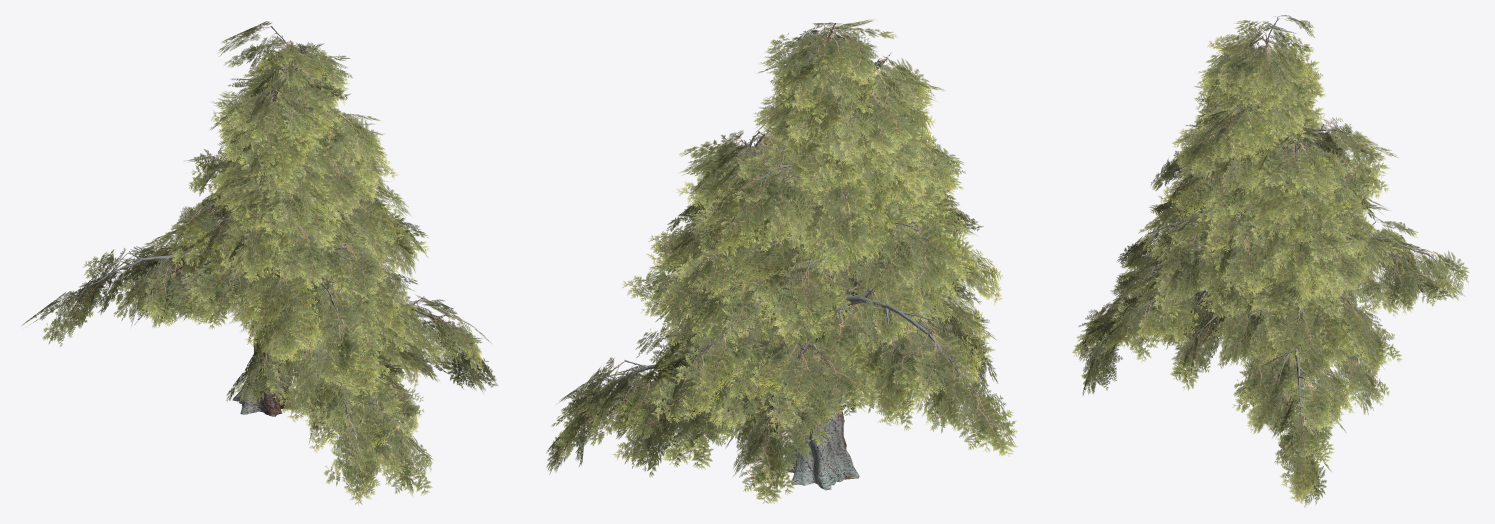
Rendered from tree-conifer.glb.
3 views of the same model, side by side, from view 1: azimuth 30°, elevation 25°; view 2: azimuth 150°, elevation 25°; view 3: azimuth 270°, elevation 25° (orthographic). The views are drawn at different scales.
Parts seen in each view (by area): view 1: Object_3, Object_6, Object_7, Object_9, Object_5, Object_4, Object_8, Object_2; view 2: Object_3, Object_6, Object_4, Object_7, Object_9, Object_8, Object_5, Object_2; view 3: Object_6, Object_7, Object_3, Object_9, Object_4, Object_5, Object_8, Object_2.
Boxes of the visible parts, x1,y1,x2,y2 form: Object_3: [72, 41, 485, 480]; Object_6: [83, 35, 483, 505]; Object_7: [113, 49, 498, 500]; Object_9: [28, 36, 462, 472]; Object_5: [47, 51, 481, 495]; Object_4: [22, 21, 482, 495]; Object_8: [42, 26, 491, 490]; Object_2: [76, 26, 453, 435]; Object_3: [546, 28, 989, 476]; Object_6: [567, 28, 995, 484]; Object_4: [551, 25, 1011, 503]; Object_7: [546, 19, 1002, 459]; Object_9: [612, 27, 1017, 503]; Object_8: [557, 22, 1015, 468]; Object_5: [553, 34, 1001, 457]; Object_2: [579, 23, 977, 490]; Object_6: [1079, 21, 1455, 487]; Object_7: [1077, 31, 1441, 503]; Object_3: [1083, 33, 1469, 507]; Object_9: [1072, 20, 1458, 444]; Object_4: [1082, 17, 1465, 462]; Object_5: [1082, 44, 1417, 471]; Object_8: [1081, 15, 1426, 457]; Object_2: [1106, 17, 1435, 452].
Size of the model in its own units: 9.21 by 8.58 by 8.32.
8 materials, 8 textured.
